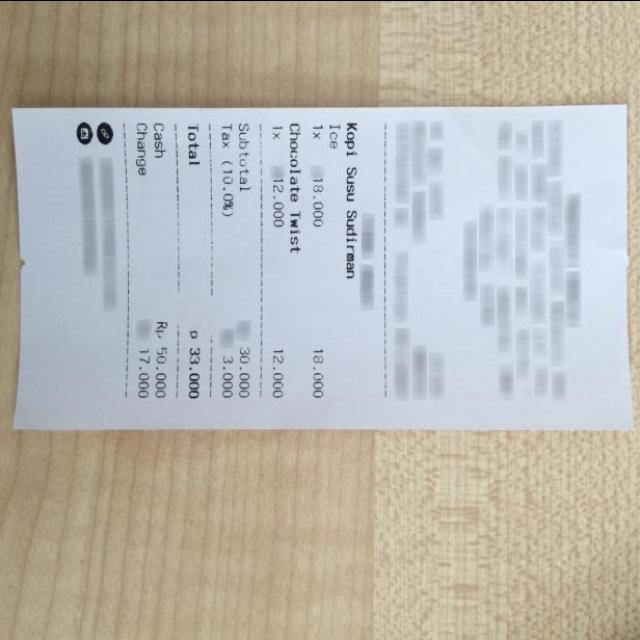kertas: (14, 104, 632, 428)
